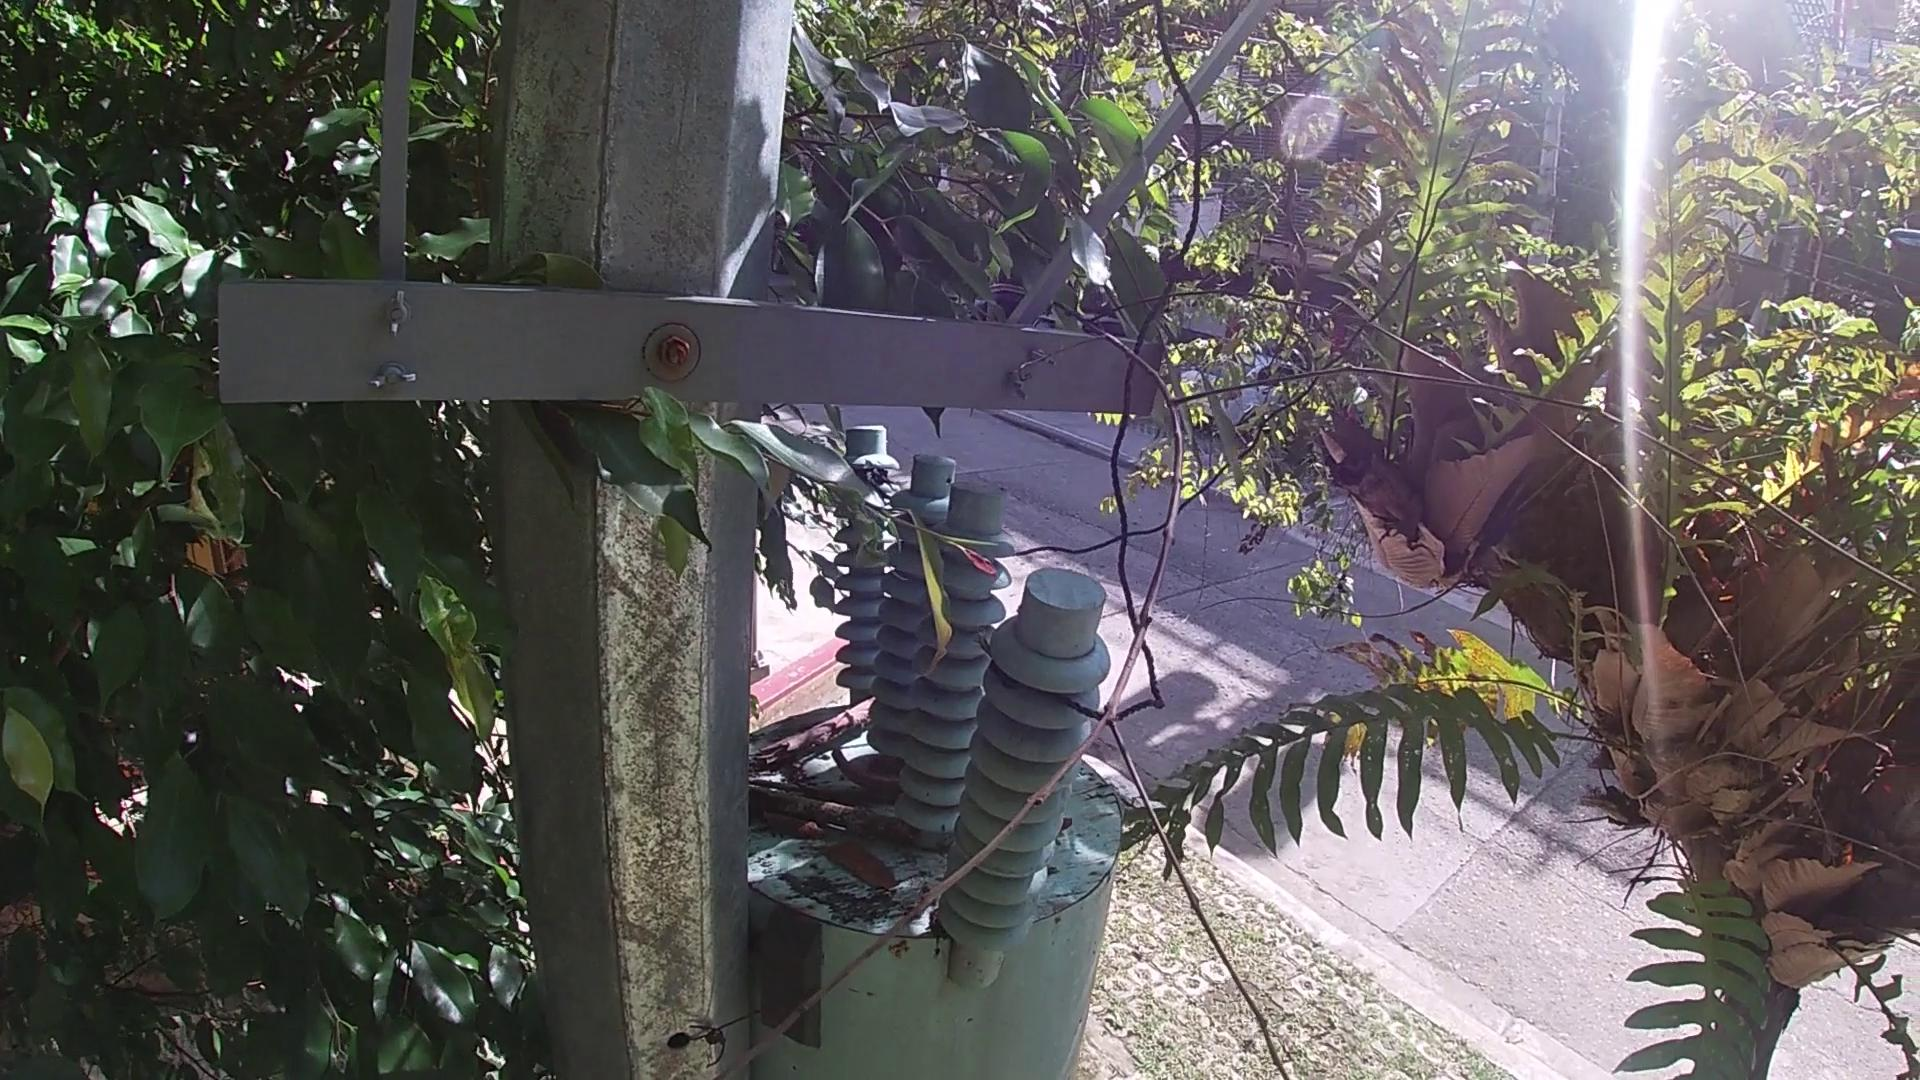leaf: (814, 843, 913, 897), (733, 807, 820, 843)
mahogany fruit: (823, 752, 903, 778)
tree branch: (717, 249, 1908, 1067), (749, 691, 890, 770), (737, 789, 945, 839), (746, 774, 890, 798)
